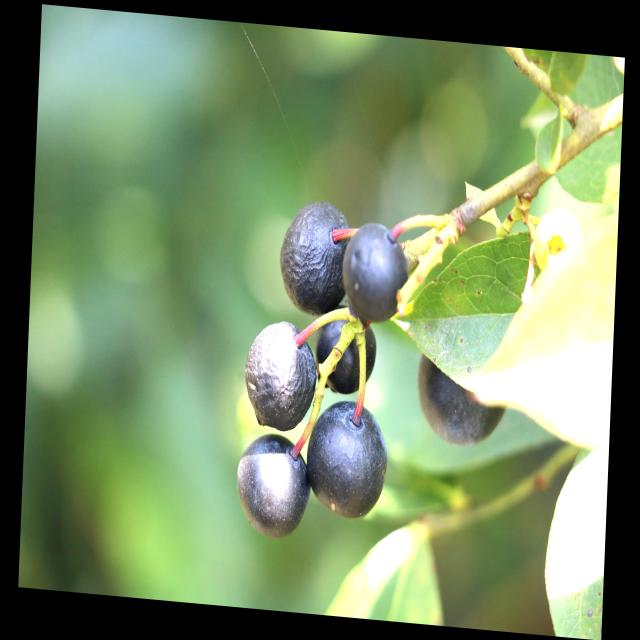blueberry: (306, 397, 387, 520), (413, 352, 503, 448), (242, 316, 316, 432), (277, 199, 349, 313), (235, 430, 311, 538), (340, 221, 411, 325), (316, 309, 373, 394)
blueberry-unripe: (528, 202, 588, 274)
